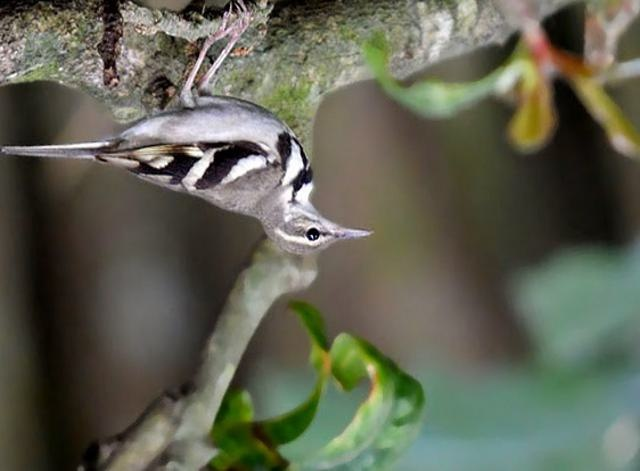wagtail: (25, 57, 378, 257)
